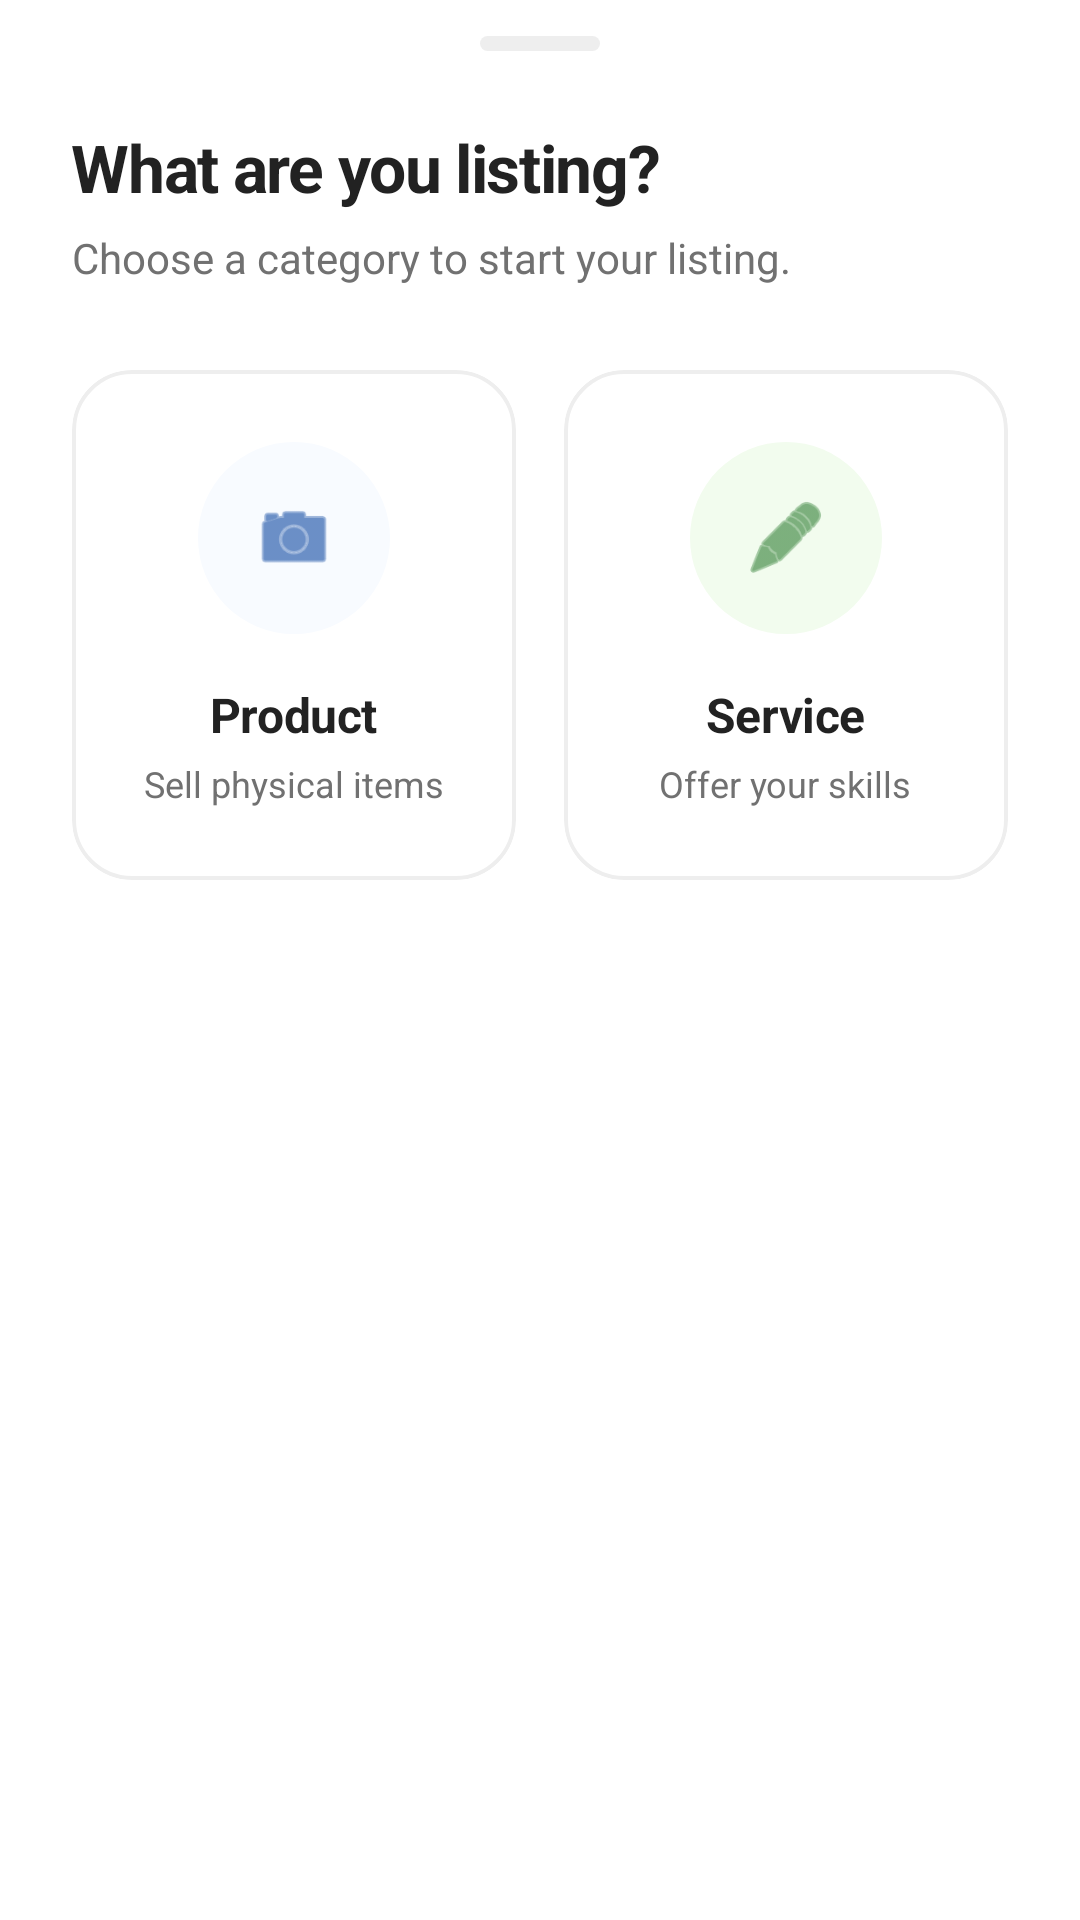

Locate icon controls on the screen. Image size 1080*1920, boxes as (x1, y1, x2, y2).
camera: (262, 511, 326, 563)
edit: (750, 502, 821, 573)
